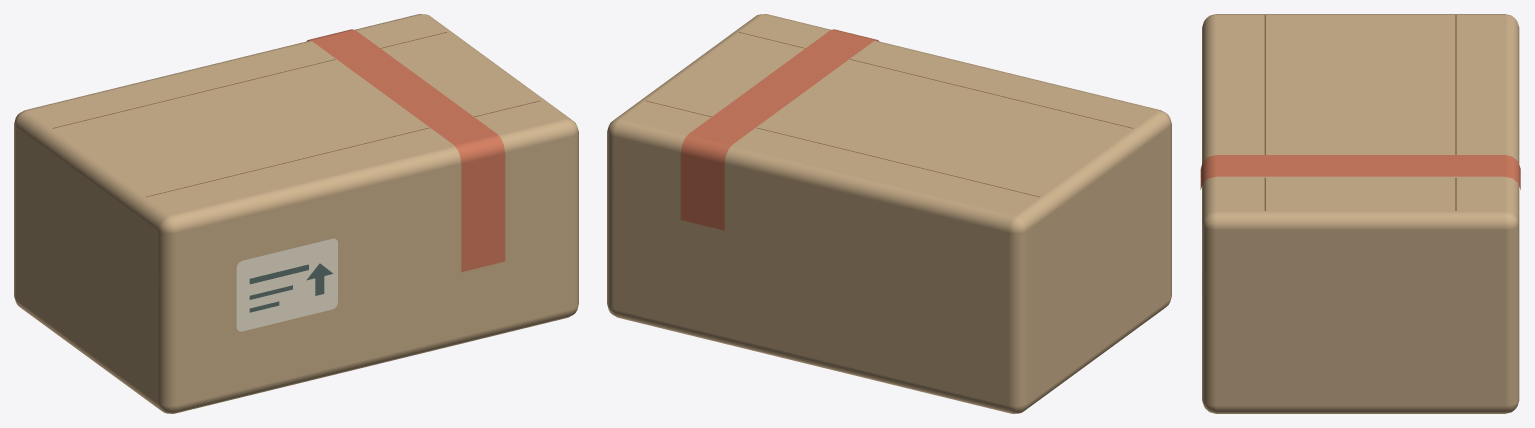
Rendered from Delivery_Box_02_Long.fbx.
3 renders of one model, left to right at view 1: azimuth 30°, elevation 25°; view 2: azimuth 150°, elevation 25°; view 3: azimuth 270°, elevation 25°, orthographic.
Parts seen in each view (by area): view 1: Delivery_Box_02_Long_Mesh; view 2: Delivery_Box_02_Long_Mesh; view 3: Delivery_Box_02_Long_Mesh.
Part boxes in pixels (x1,y1,x2,y2): Delivery_Box_02_Long_Mesh: [14, 14, 578, 413]; Delivery_Box_02_Long_Mesh: [607, 14, 1171, 413]; Delivery_Box_02_Long_Mesh: [1200, 14, 1520, 413].
Size of the model in its own units: 0.62 by 0.2815 by 0.4035.
